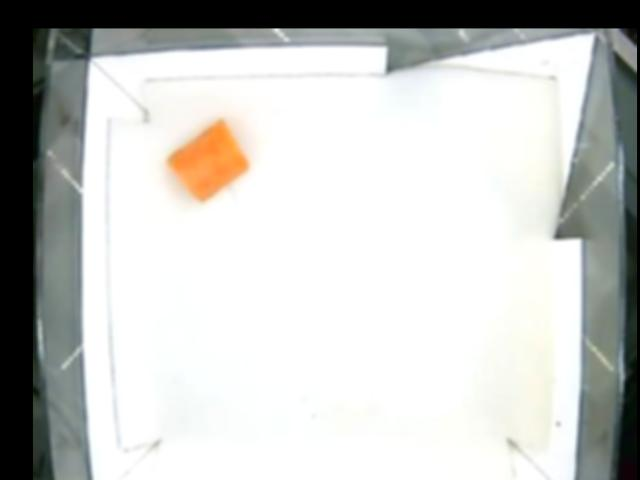Carrot: (167, 118, 247, 204)
